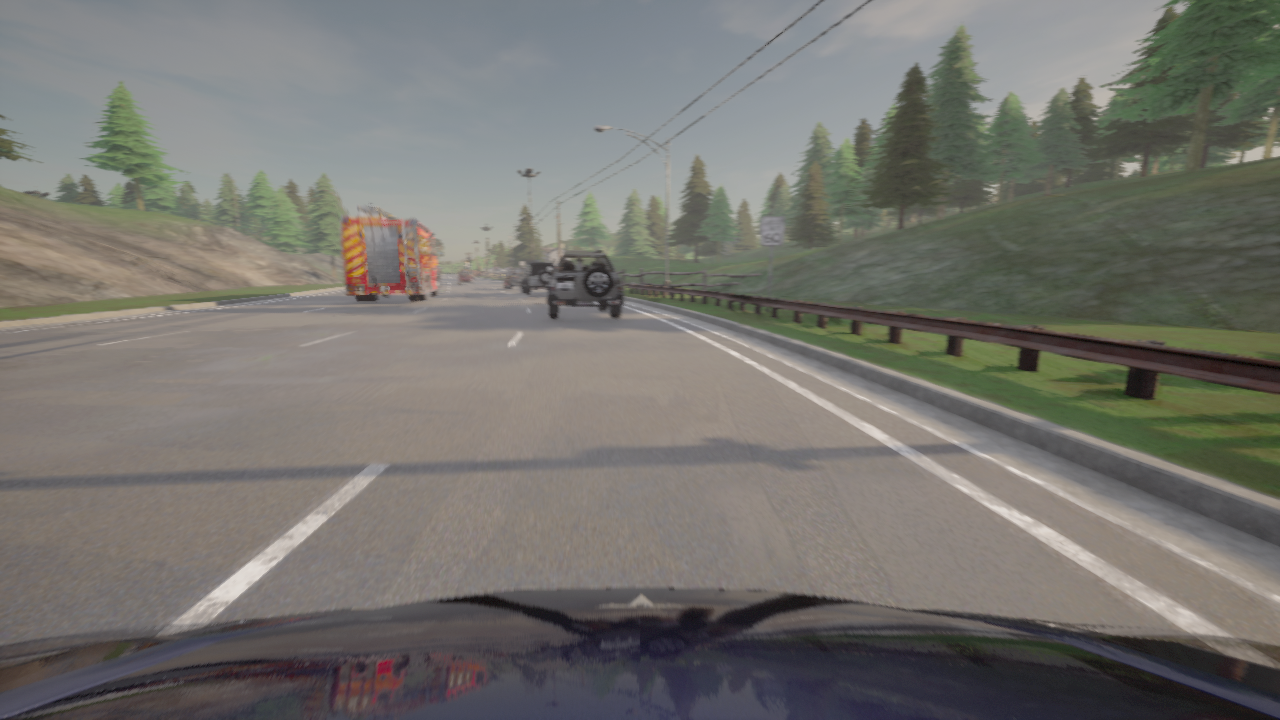cyclist: (0, 588, 1279, 719), (341, 206, 442, 302), (547, 250, 623, 319), (520, 262, 554, 294), (504, 268, 537, 289), (457, 271, 473, 284)
